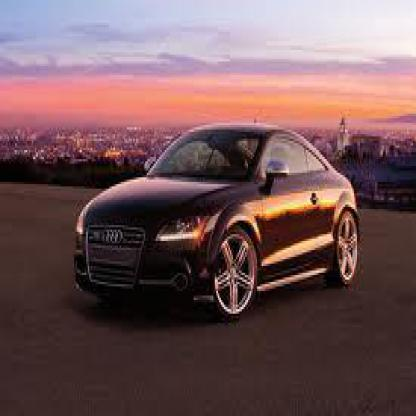Vehicle: (74, 134, 362, 323)
